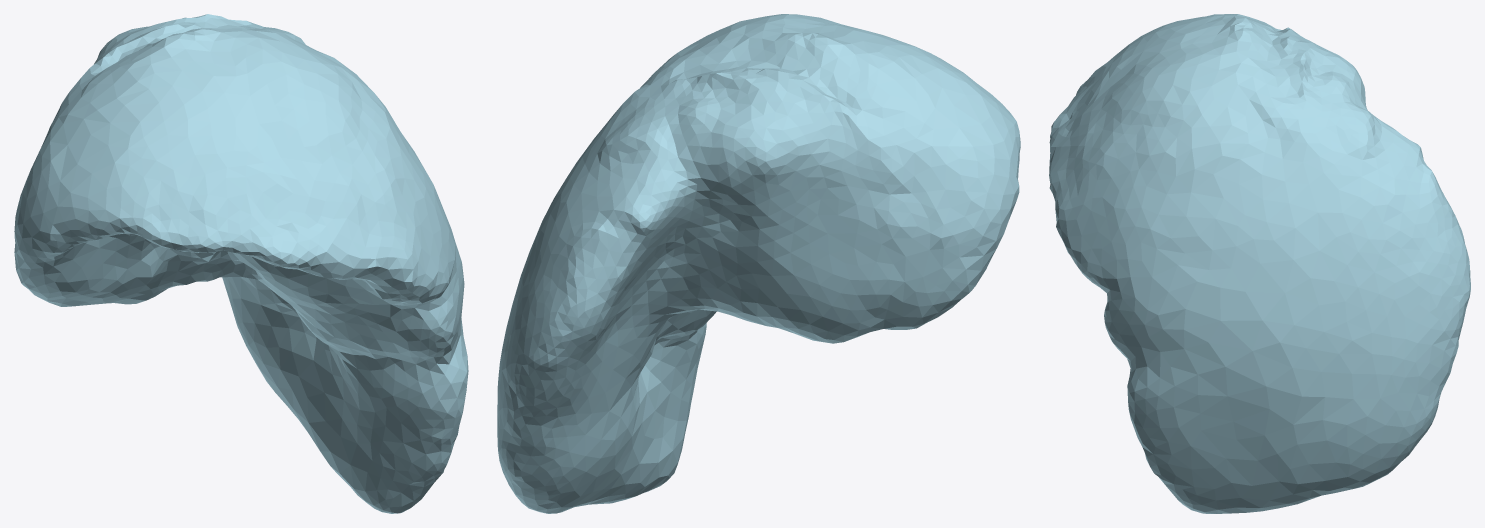
Rendered from spleen.obj.
The picture shows the model from 3 angles, left to right: view 1: azimuth 30°, elevation 25°; view 2: azimuth 150°, elevation 25°; view 3: azimuth 270°, elevation 25°; orthographic projection. The views are drawn at different scales.
Visible parts, largest first — view 1: grp1; view 2: grp1; view 3: grp1.
Part boxes in pixels (x1,y1,x2,y2): grp1: [14, 14, 468, 513]; grp1: [497, 14, 1020, 513]; grp1: [1049, 14, 1470, 513].
Bounding box in the file's own units: 82.16 × 93.84 × 86.1.
